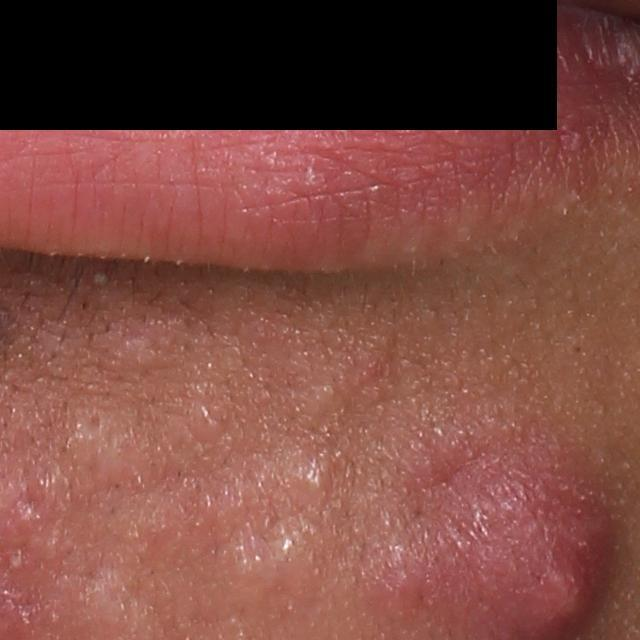hypertrophic_scar: (201, 451, 341, 529), (62, 416, 153, 508), (207, 522, 326, 589), (88, 318, 172, 387), (297, 369, 339, 421)
pustule: (90, 270, 111, 291)
